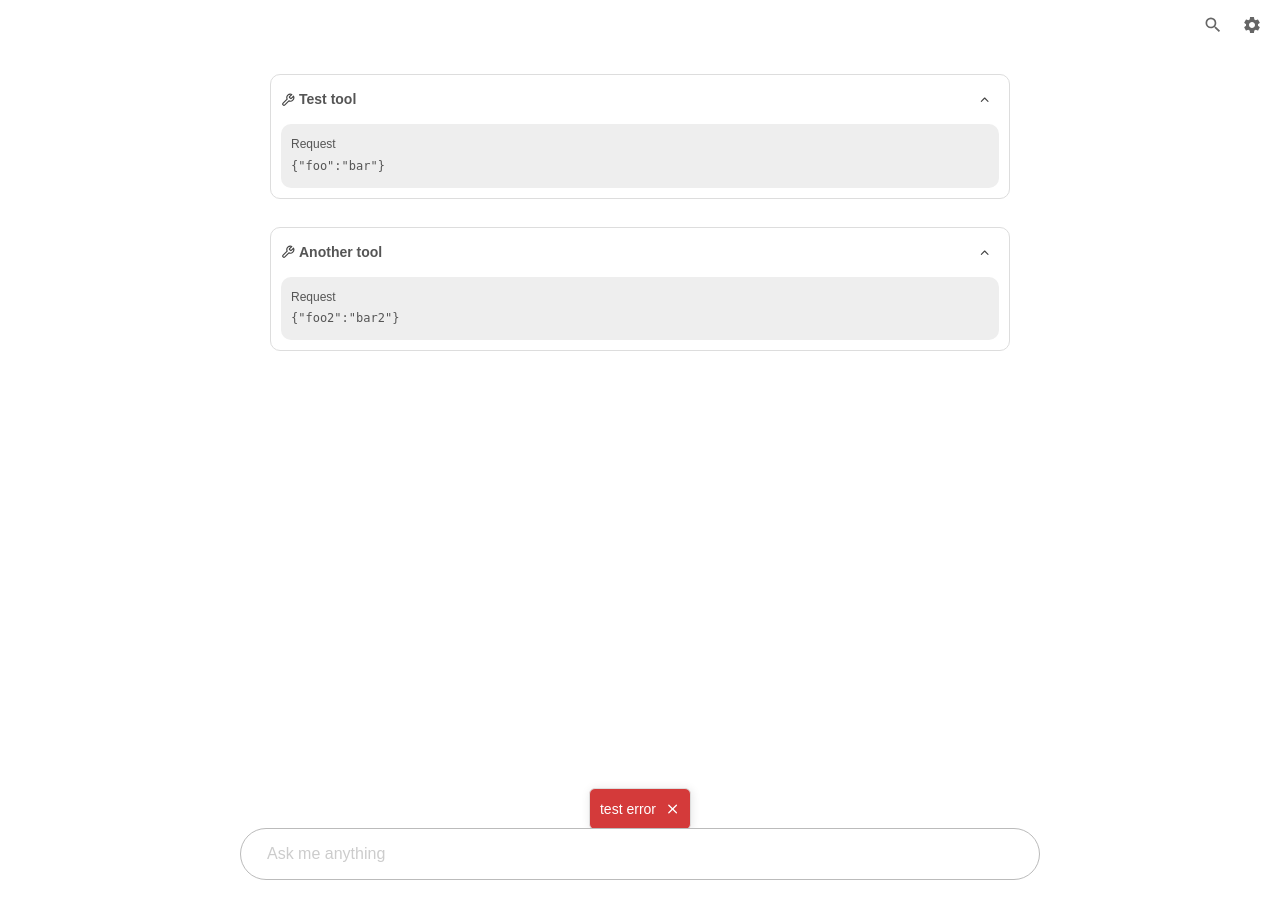
Test: Chat › エラーメッセージが表示される
The image size is (1280, 900).
Expected: the text "test error" is shown, [600, 801, 661, 817]
Click the icon with test id "close-error": (672, 809) [665, 799, 680, 819]
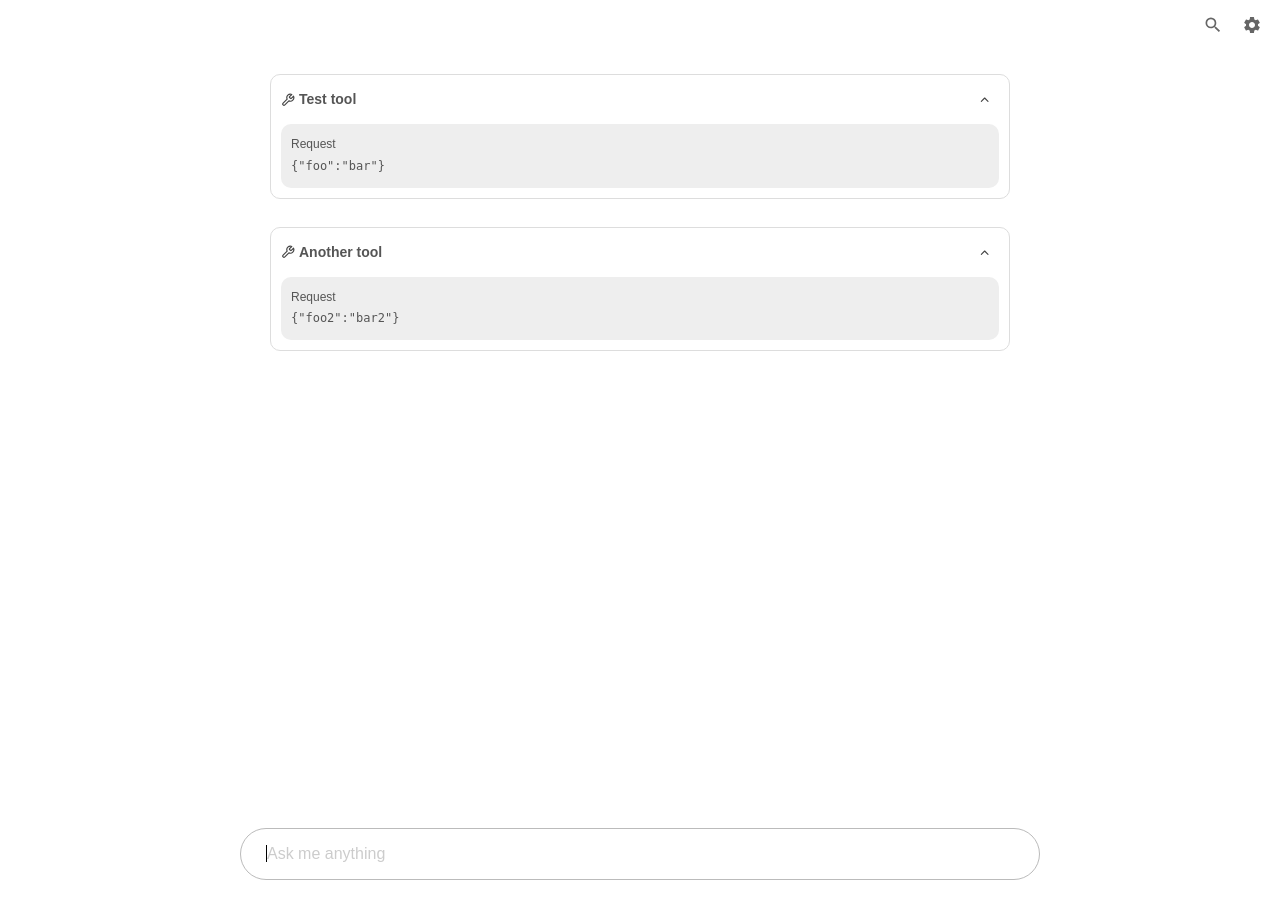
Expected: the text "test error" is gone
